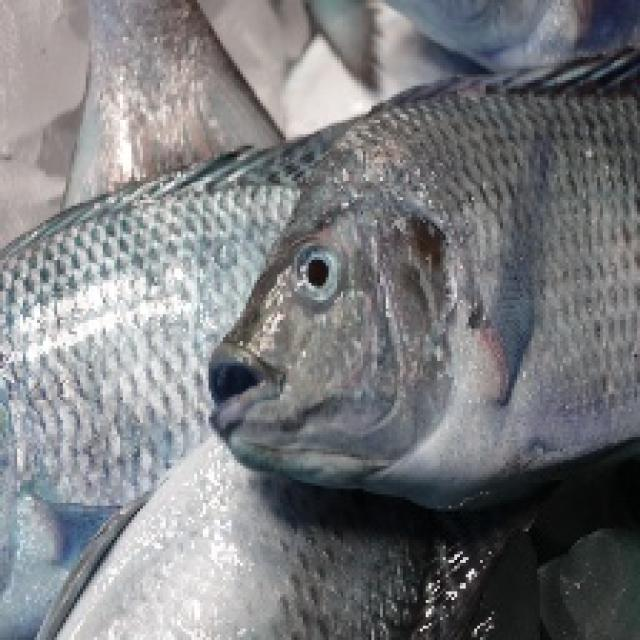Fresh: (218, 115, 640, 492)
